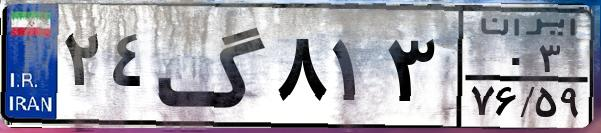0: (508, 27, 537, 80)
1: (330, 28, 385, 110)
2: (57, 26, 110, 100)
3: (385, 28, 445, 110), (537, 27, 568, 80)
4: (110, 28, 156, 98)
5: (535, 70, 560, 125)
6: (495, 70, 520, 125)
7: (470, 70, 495, 125)
8: (270, 28, 330, 110)
9: (560, 70, 590, 125)
گ: (156, 12, 270, 120)
